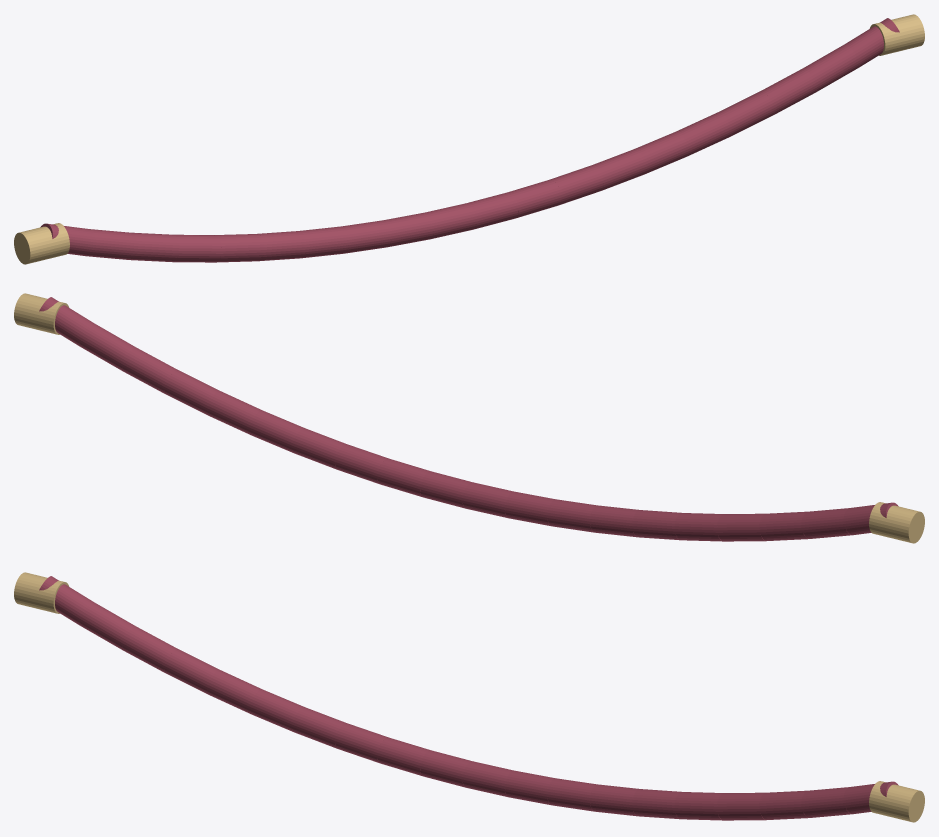
The model's file is abandoned-cinema-and-projection-booth-abandoned-cinema-e2c875da__29692.glb.
3 renders of one model, top to bottom at view 1: azimuth 30°, elevation 25°; view 2: azimuth 150°, elevation 25°; view 3: azimuth 330°, elevation 25°, orthographic.
Parts seen in each view (by area): view 1: abandoned-cinema-and-projection-booth-queue-rope; view 2: abandoned-cinema-and-projection-booth-queue-rope; view 3: abandoned-cinema-and-projection-booth-queue-rope.
Boxes of the visible parts, x1=… form: abandoned-cinema-and-projection-booth-queue-rope: x1=14, y1=14, x2=924, y2=264; abandoned-cinema-and-projection-booth-queue-rope: x1=14, y1=293, x2=924, y2=543; abandoned-cinema-and-projection-booth-queue-rope: x1=14, y1=572, x2=924, y2=822.
Size of the model in its own units: 1.58 by 0.1808 by 0.05.
